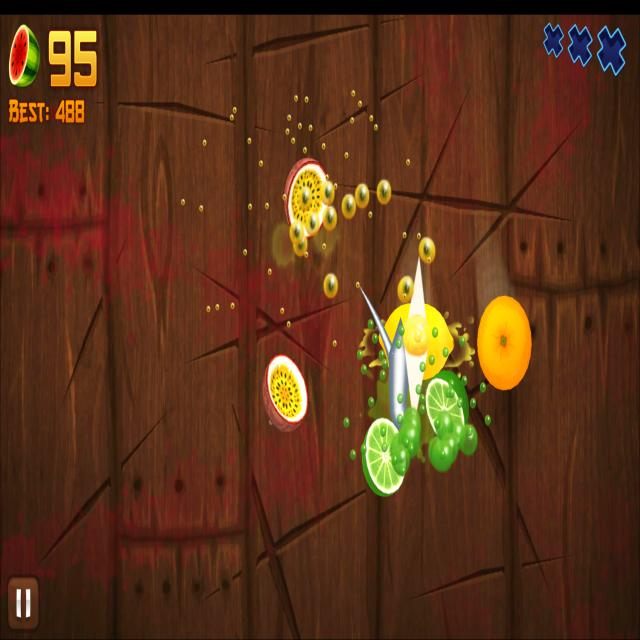fruit: (377, 303, 455, 381), (476, 292, 533, 393)
